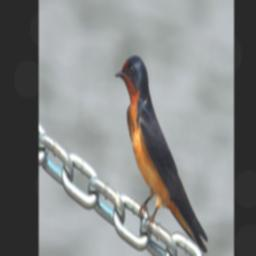Swallow: (114, 55, 209, 256)
